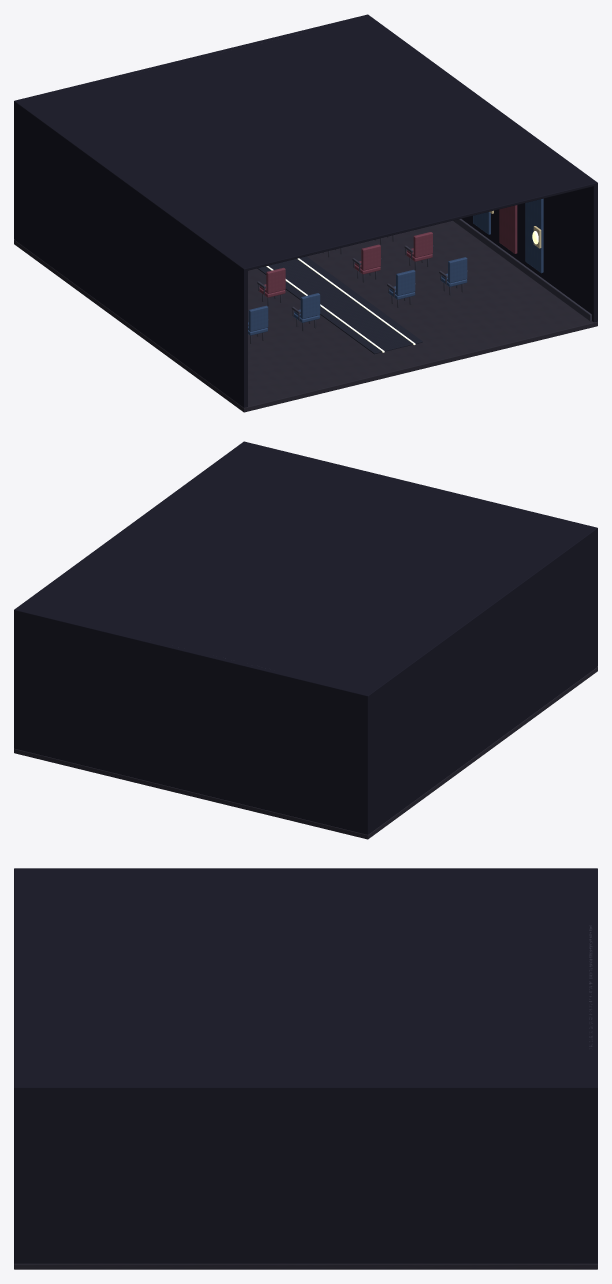
3 views of the same model, one above another, from view 1: azimuth 30°, elevation 25°; view 2: azimuth 150°, elevation 25°; view 3: azimuth 270°, elevation 25° (orthographic). The views are drawn at different scales.
Visible parts, largest first — view 1: Presentation_Ceiling, Presentation_LeftWall, Presentation_Floor, Presentation_RightWall, Presentation_CenterAisle, Presentation_RightBaseboard, Presentation_BackWall, Presentation_Acoustic_7.55_0, Presentation_Acoustic_7.55_1; view 2: Presentation_Ceiling, Presentation_BackWall, Presentation_LeftWall, Presentation_Floor, Presentation_RightWall; view 3: Presentation_Ceiling, Presentation_RightWall, Presentation_Floor, Presentation_BackWall, Presentation_LeftWall.
Boxes of the visible parts, x1,y1,x2,y2 form: Presentation_Ceiling: [16, 15, 597, 270]; Presentation_LeftWall: [14, 101, 247, 407]; Presentation_Floor: [14, 221, 597, 412]; Presentation_RightWall: [367, 16, 597, 322]; Presentation_CenterAisle: [257, 256, 422, 354]; Presentation_RightBaseboard: [453, 219, 591, 321]; Presentation_BackWall: [14, 14, 369, 240]; Presentation_Acoustic_7.55_0: [525, 198, 543, 273]; Presentation_Acoustic_7.55_1: [499, 205, 517, 253]; Presentation_Ceiling: [14, 441, 597, 696]; Presentation_BackWall: [14, 609, 370, 834]; Presentation_LeftWall: [364, 527, 597, 834]; Presentation_Floor: [14, 667, 597, 839]; Presentation_RightWall: [14, 441, 246, 749]; Presentation_Ceiling: [14, 868, 597, 1090]; Presentation_RightWall: [14, 1085, 597, 1263]; Presentation_Floor: [14, 1263, 597, 1269]; Presentation_BackWall: [592, 868, 597, 1263]; Presentation_LeftWall: [14, 868, 597, 870].
Size of the model in its own units: 16 by 6.2 by 18.
13 materials, 9 textured.
